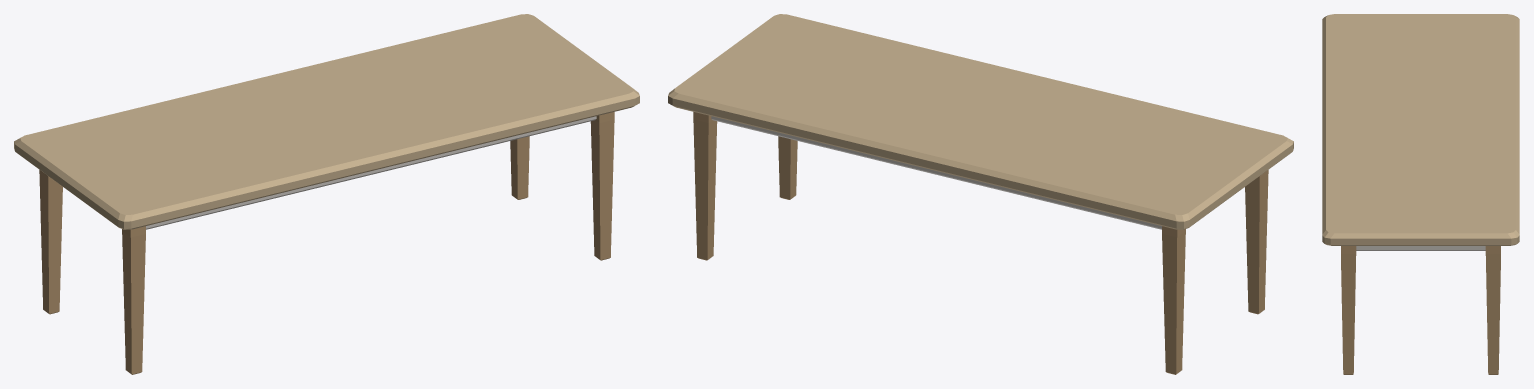
File: dining_table.glb
The picture shows the model from 3 angles, left to right: view 1: azimuth 30°, elevation 25°; view 2: azimuth 150°, elevation 25°; view 3: azimuth 270°, elevation 25°; orthographic projection. The views are drawn at different scales.
Parts seen in each view (by area): view 1: mesh_0; view 2: mesh_0; view 3: mesh_0.
Boxes of the visible parts, x1=… form: mesh_0: x1=14, y1=14, x2=639, y2=374; mesh_0: x1=668, y1=14, x2=1293, y2=374; mesh_0: x1=1322, y1=14, x2=1519, y2=374.
Size of the model in its own units: 2.4 by 0.75 by 0.9.
